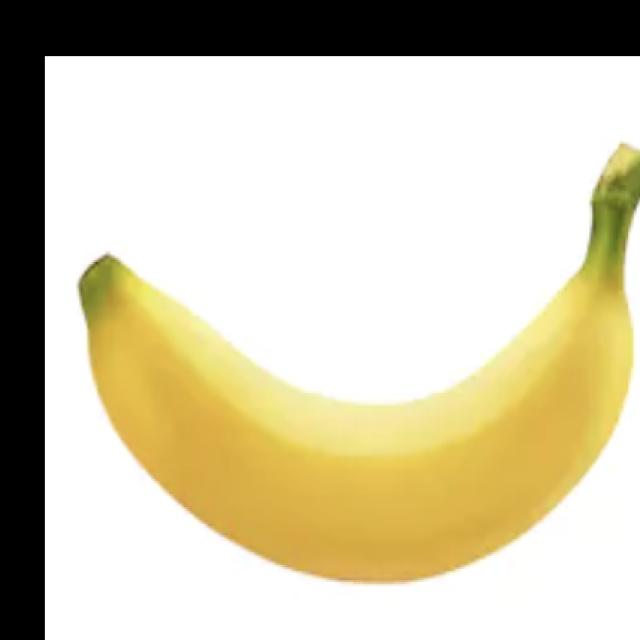Ripe: (59, 100, 640, 608)
